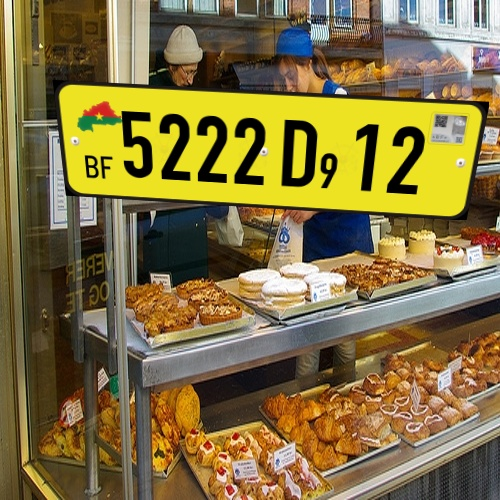plate: (37, 63, 490, 240)
